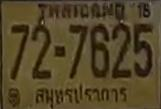2: (30, 24, 52, 79), (111, 23, 131, 76)
5: (133, 24, 152, 76)
6: (90, 23, 109, 77)
7: (68, 24, 87, 78), (10, 24, 28, 80)
SPK: (31, 82, 128, 107)
